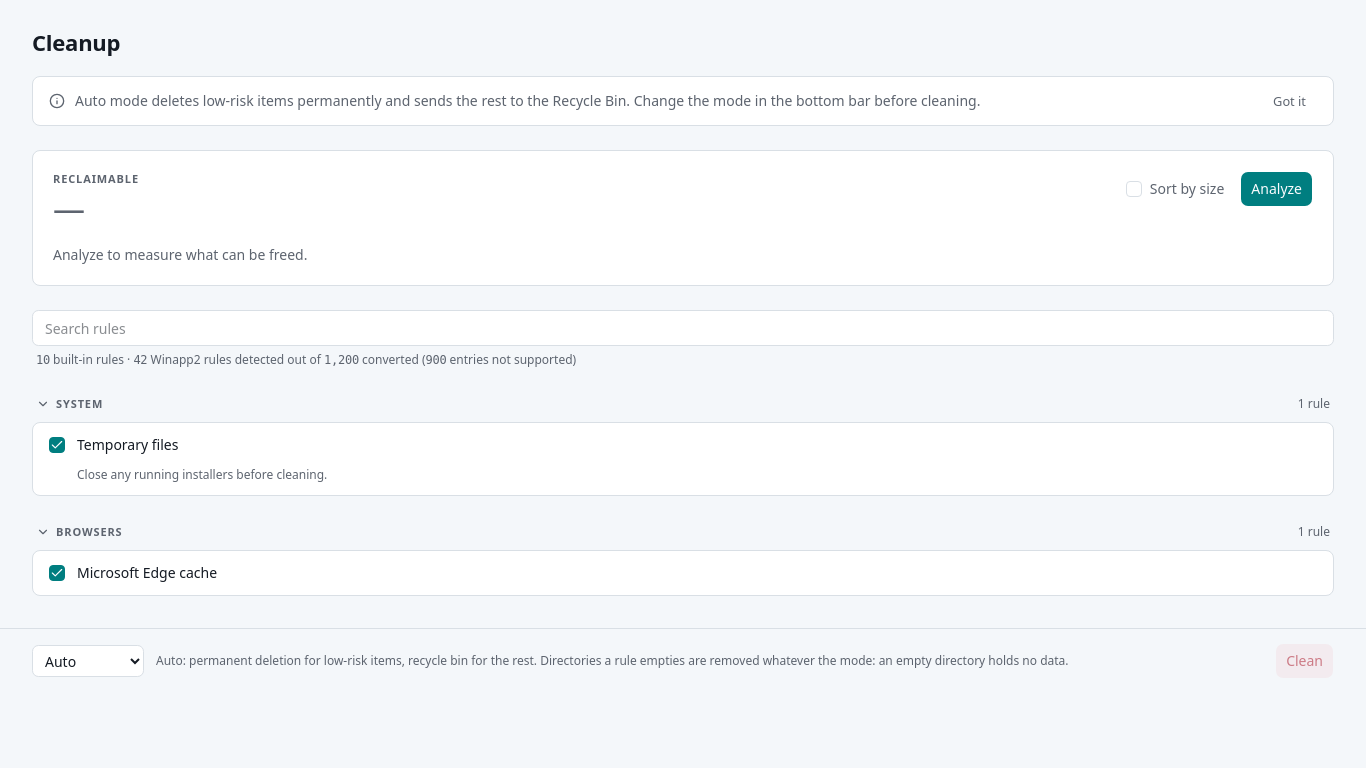
CleanPanel › keeps the results and updates the total when a rule is toggled after a scan
Expected: the checkbox named "Temporary files" is shown, [49,437,65,453]
Click the button "Analyze" at [1277, 189], box [1240,171,1313,207]
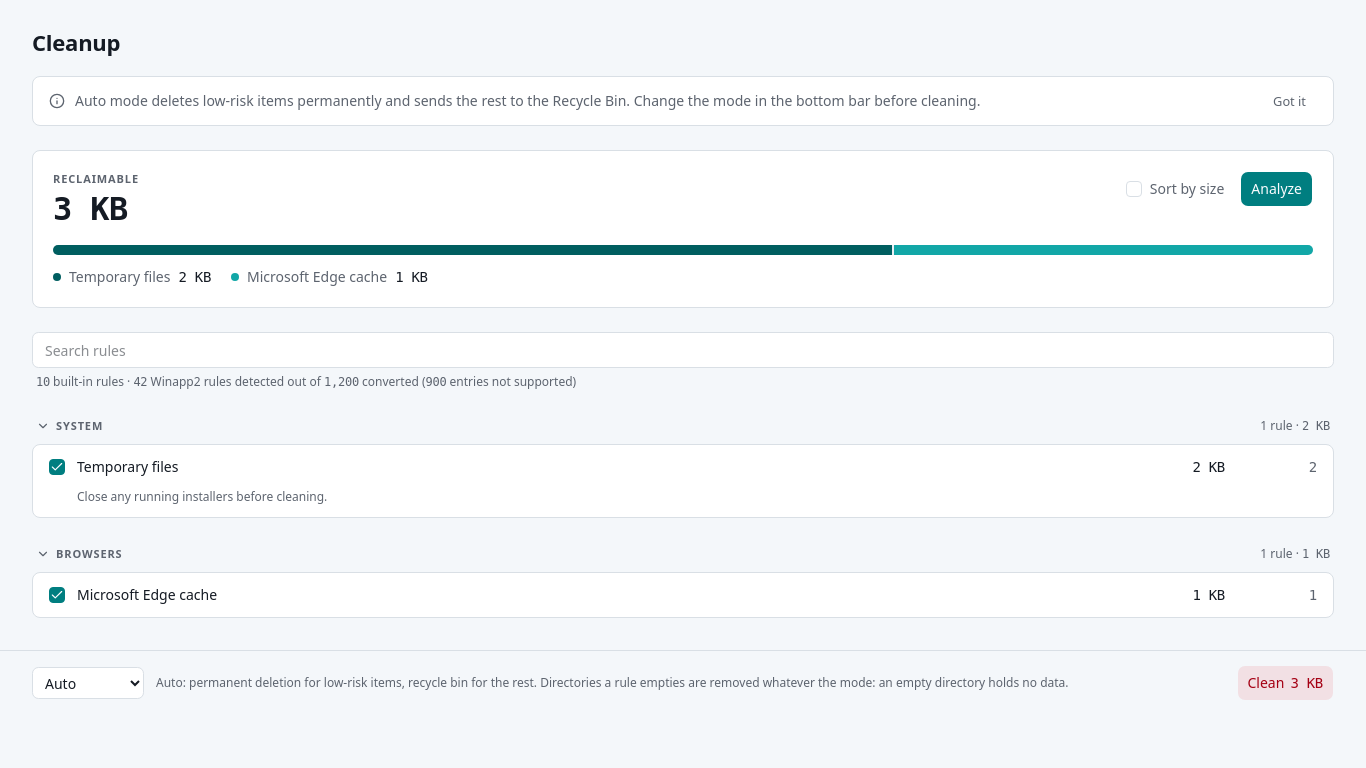
Expected: the text with test id "total-bytes" reads "3 KB", [53,190,128,228]
Click the checkbox named "Microsoft Edge cache" at [57, 595], box [49,587,65,603]
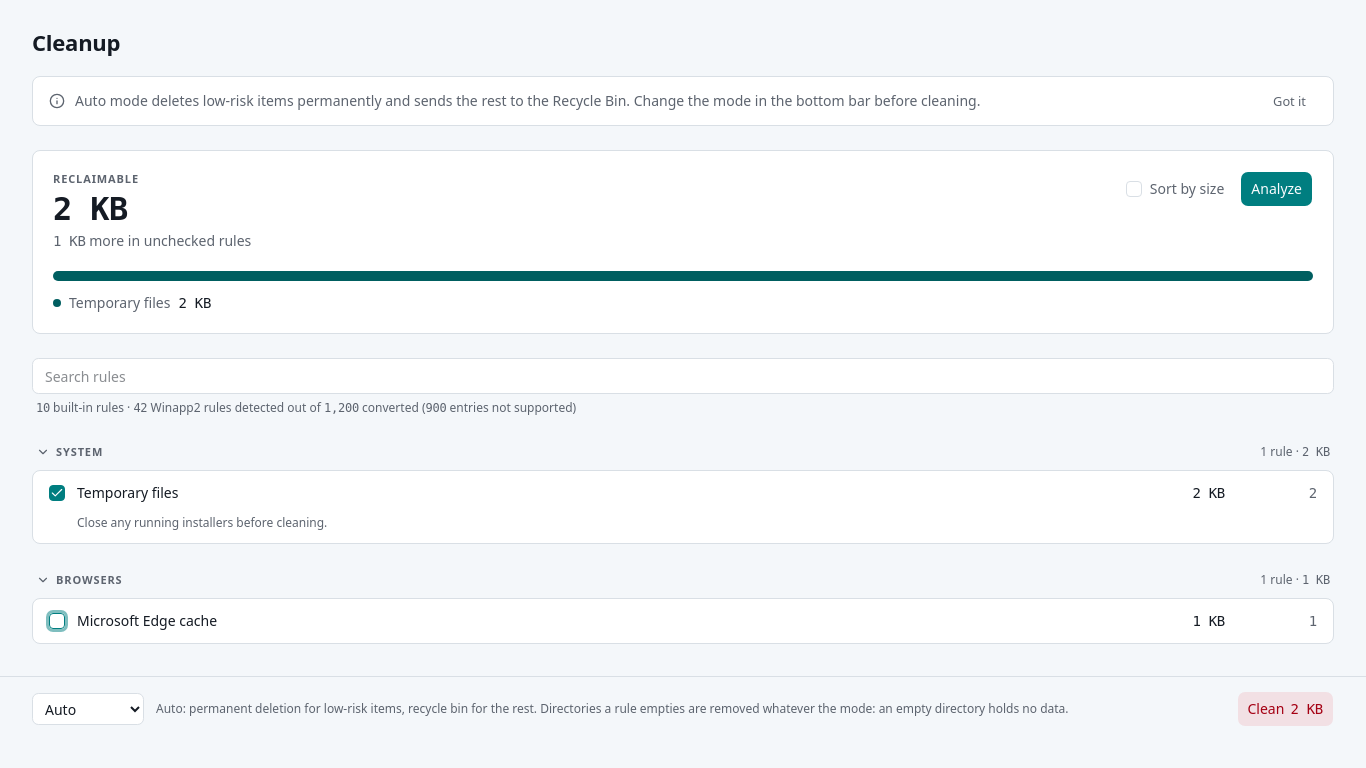
Expected: the element with test id "result-edge.cache" shows "1 KB", [1192,613,1225,629]
Expected: the text with test id "total-bytes" reads "2 KB", [53,190,128,228]
Expected: the element with test id "unchecked-bytes" shows "1 KB", [53,233,86,249]
